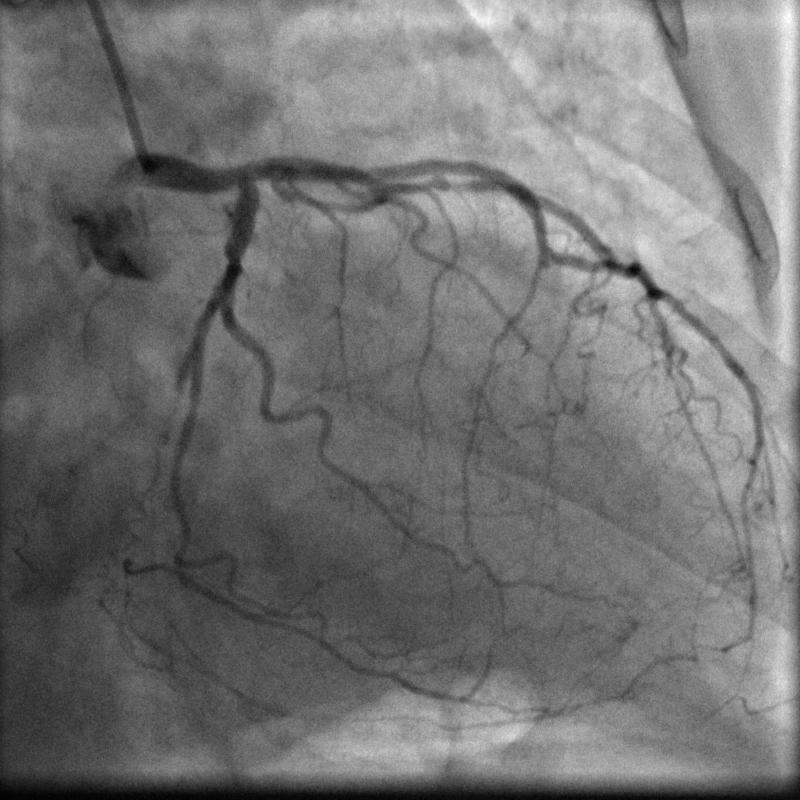Stenosis: (406, 170, 492, 196)
